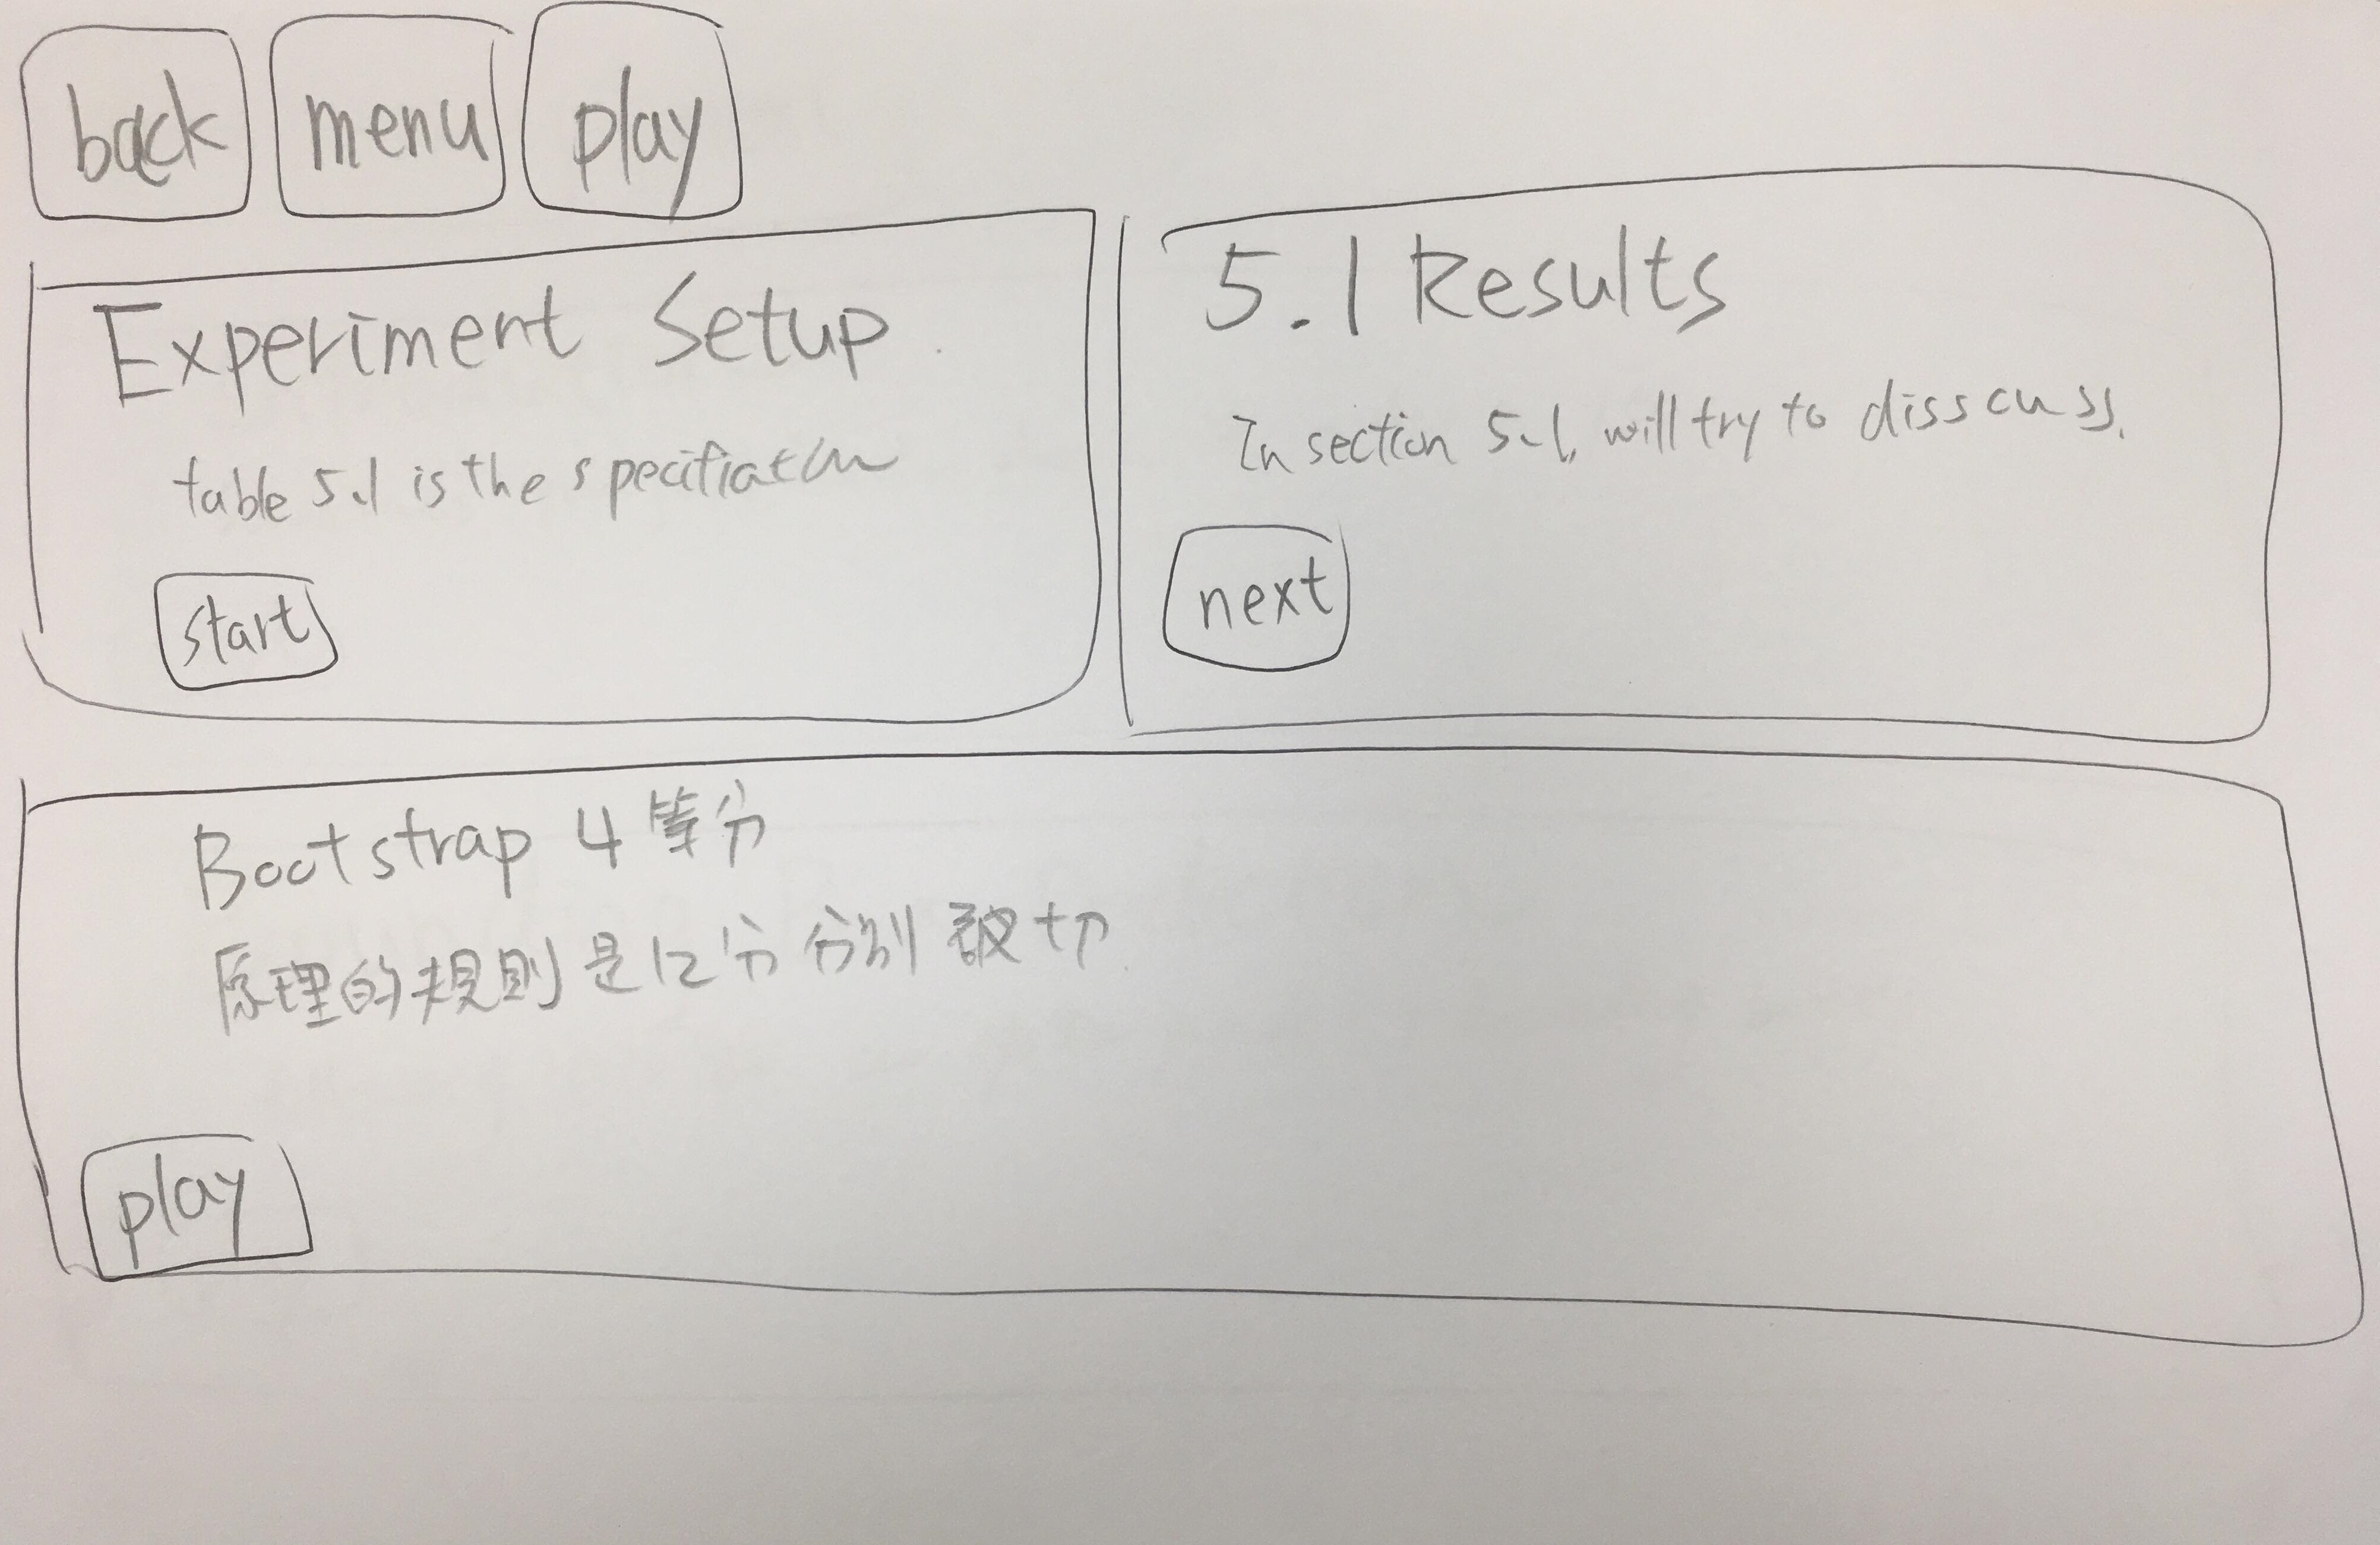back: (3, 12, 260, 260)
double: (1069, 140, 2354, 777), (0, 184, 1129, 749)
menu: (258, 3, 524, 250)
next: (1141, 515, 1398, 701)
play: (503, 2, 756, 243), (69, 1113, 328, 1301)
row: (0, 144, 2380, 794), (0, 725, 2380, 1375), (0, 0, 2378, 243)
single: (3, 746, 2380, 1380)
small-title: (180, 798, 1150, 1030), (75, 260, 902, 420), (1200, 225, 1747, 350)
start: (130, 553, 361, 707)
text: (1219, 361, 2137, 487), (179, 425, 886, 513)
